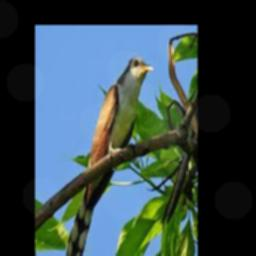Cuckoo: (65, 57, 154, 256)
